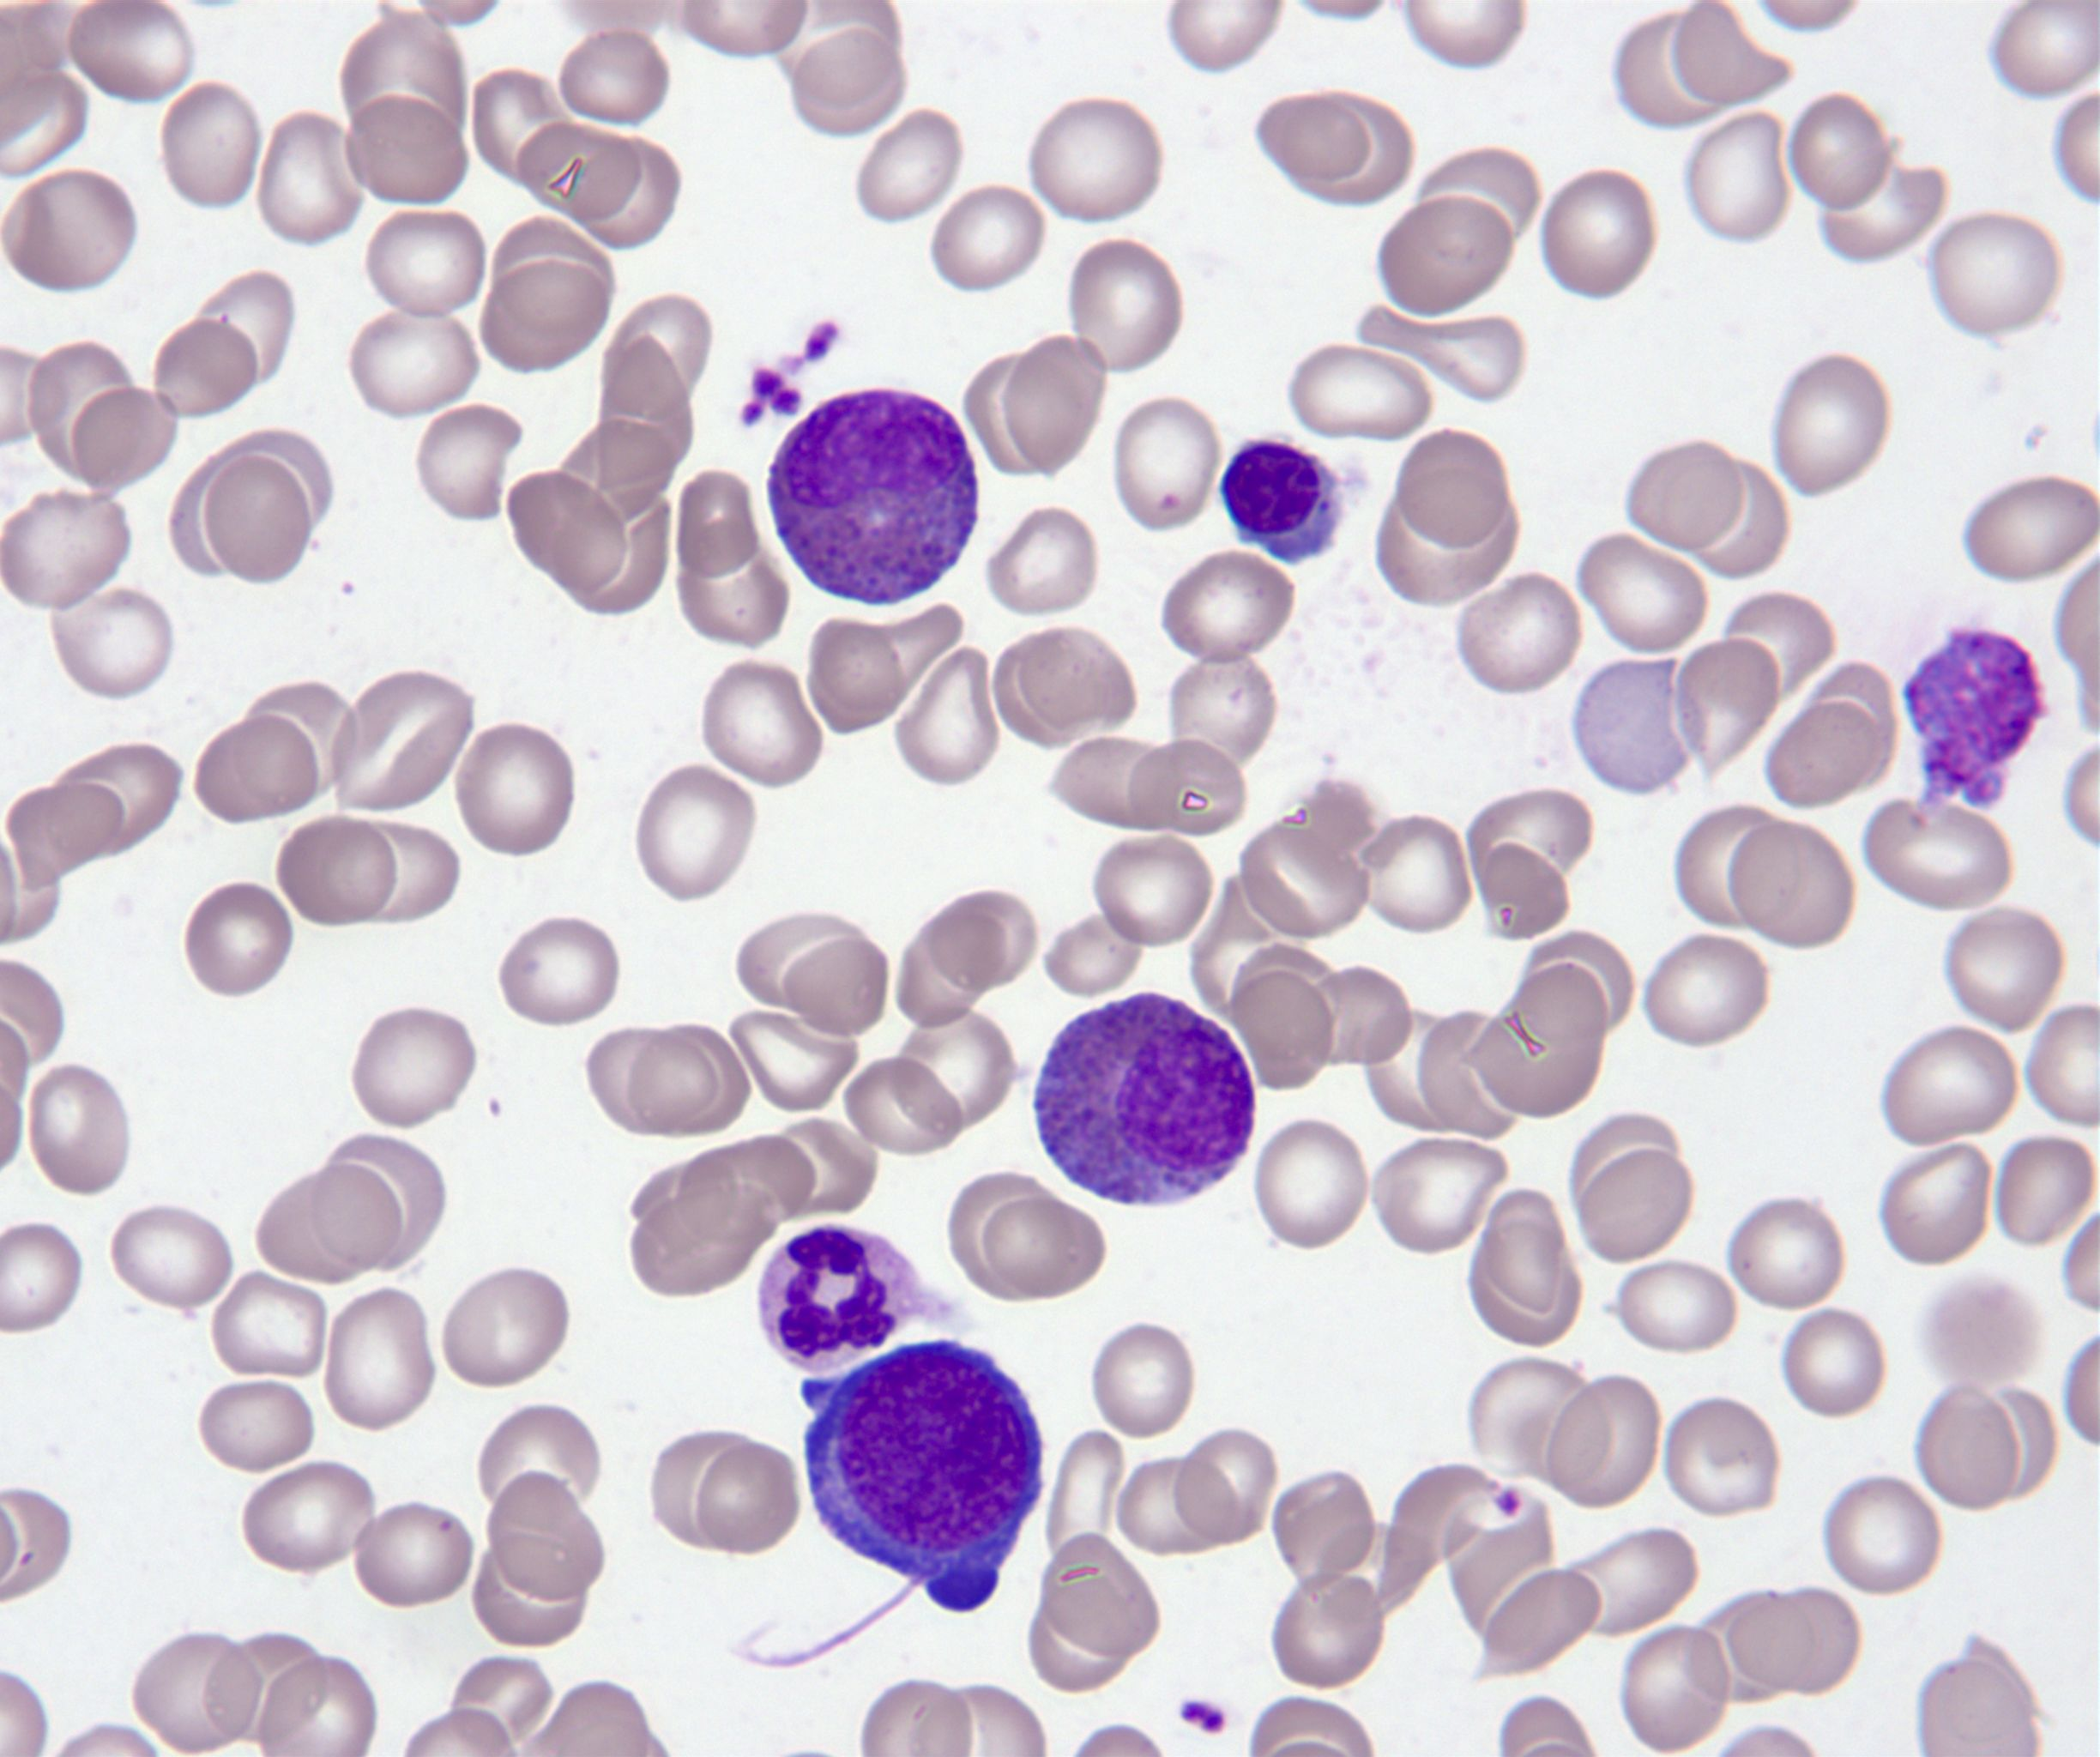22: (734, 1343, 1045, 1668)
24: (1221, 441, 1345, 562)
6: (762, 1228, 970, 1380)
E1: (1034, 989, 1254, 1207)
E2: (767, 389, 977, 605)
x: (1903, 630, 2042, 827)
